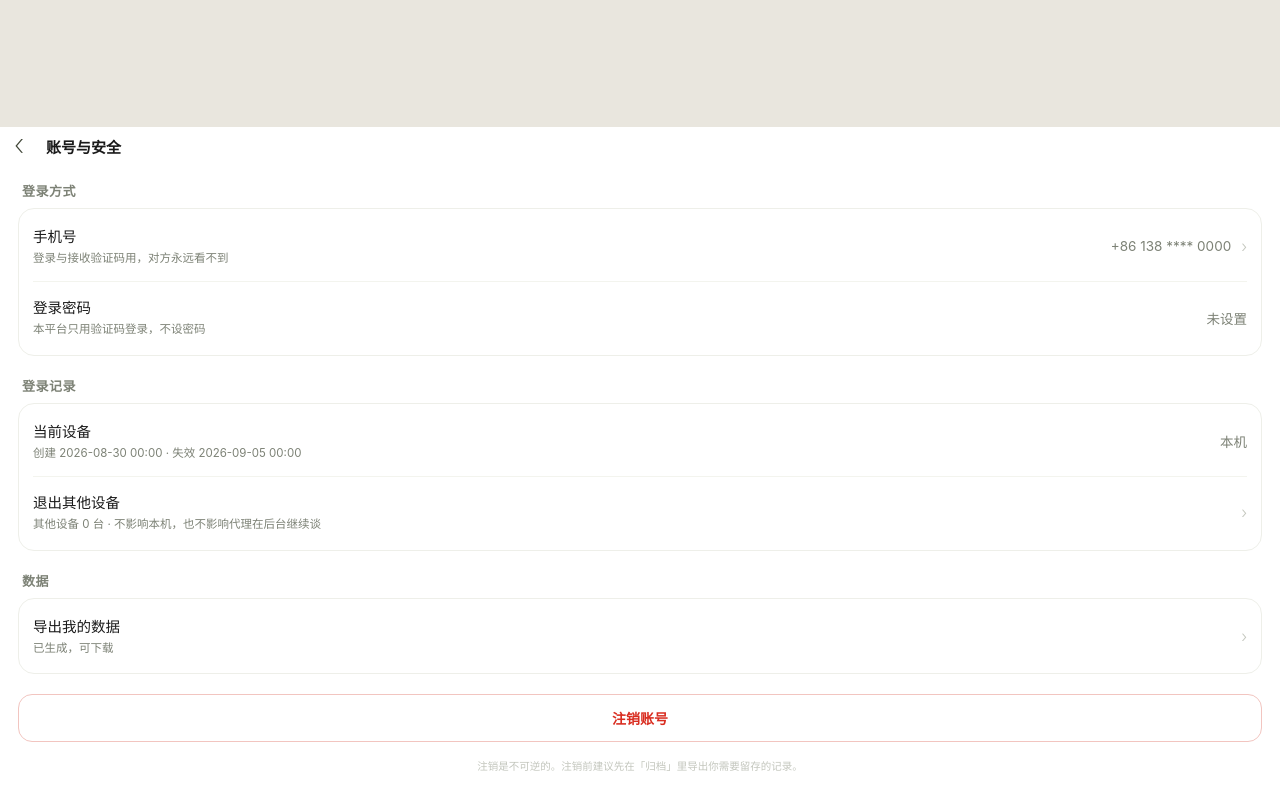
账号安全 · Backend 数据导出与注销 › 下载预检后不可下载（未就绪/已过期）：不点锚点，固定提示
This screenshot has width=1280, height=800.
(page scrolled)
Click the button "导出我的数据 已生成，可下载 ›": (76,626) [33, 601, 1247, 671]
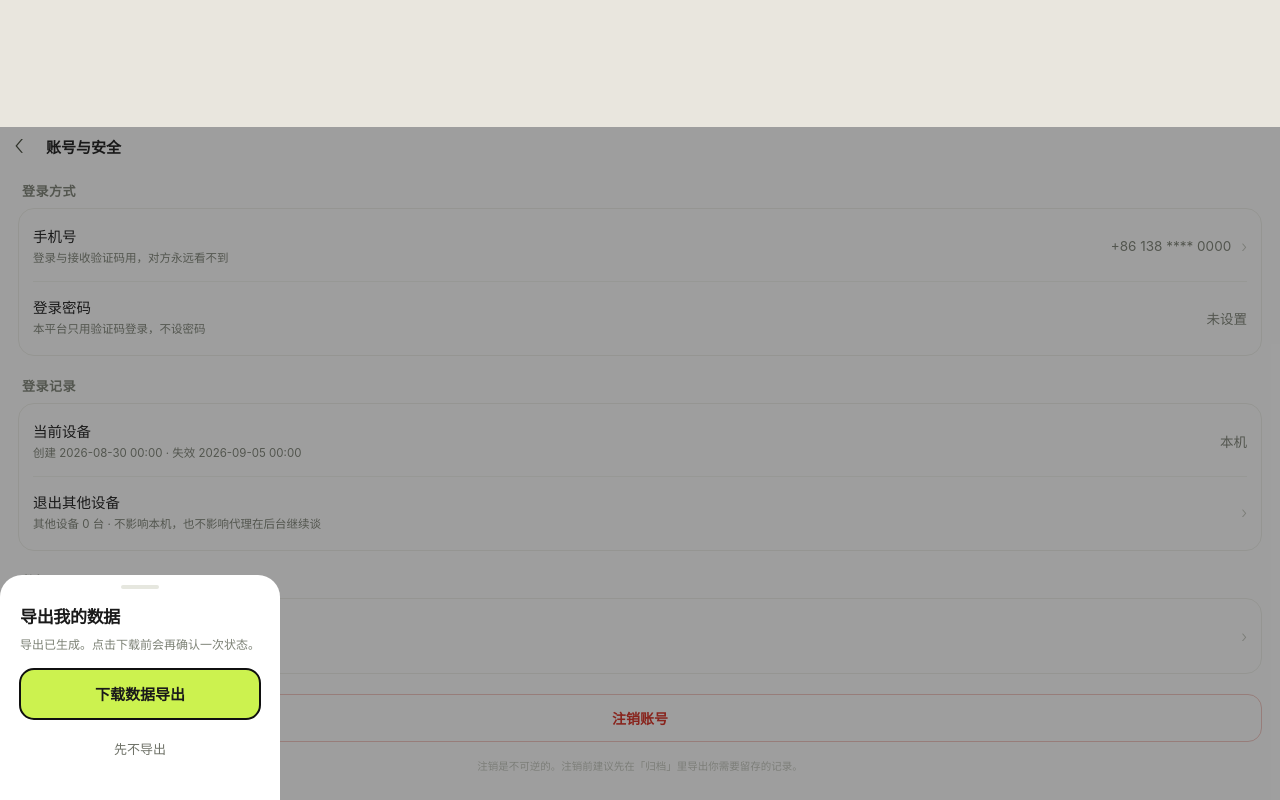
Click the button "下载数据导出": (140,694) [20, 669, 260, 719]
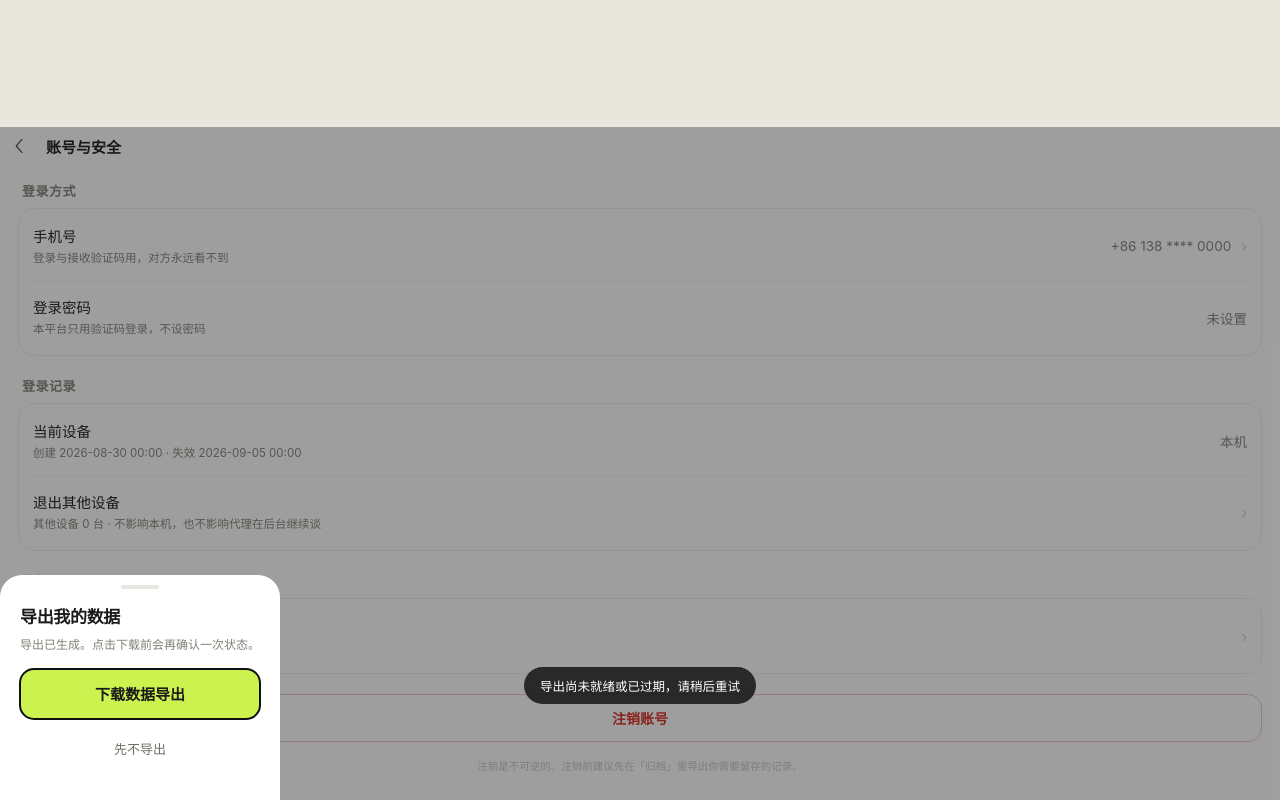
Check: the text "导出尚未就绪或已过期，请稍后重试" is shown, box [524, 667, 756, 704]
